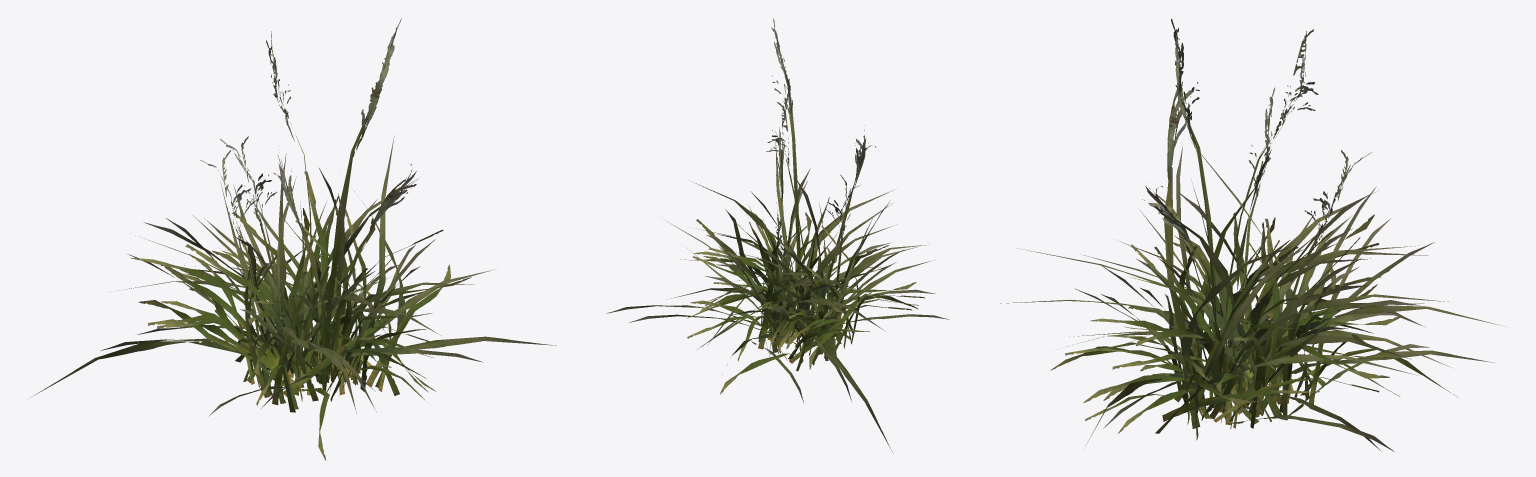
3 renders of one model, left to right at view 1: azimuth 30°, elevation 25°; view 2: azimuth 150°, elevation 25°; view 3: azimuth 270°, elevation 25°, orthographic. The views are drawn at different scales.
Parts seen in each view (by area): view 1: grass_medium_01__c_lod0; view 2: grass_medium_01__c_lod0; view 3: grass_medium_01__c_lod0.
Part boxes in pixels (left/top/right/bottom): grass_medium_01__c_lod0: left=30, top=18, right=555, bottom=460; grass_medium_01__c_lod0: left=607, top=18, right=948, bottom=453; grass_medium_01__c_lod0: left=1000, top=18, right=1505, bottom=451.
Bounding box in the file's own units: 0.2243 × 0.221 × 0.2308.
1 material, 1 textured.
